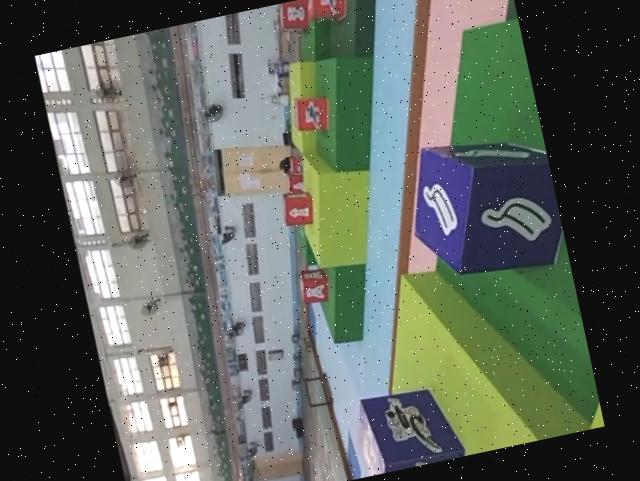R1 Blue: (349, 380, 466, 477)
R2 Real Blue: (397, 119, 570, 289)
